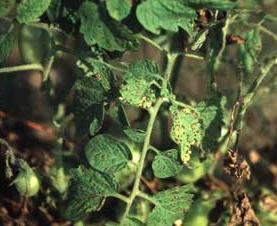Tomato Septoria leaf spot: (114, 53, 170, 113), (66, 59, 126, 110), (168, 104, 207, 166), (82, 134, 138, 175), (144, 185, 196, 226), (148, 148, 190, 182)
